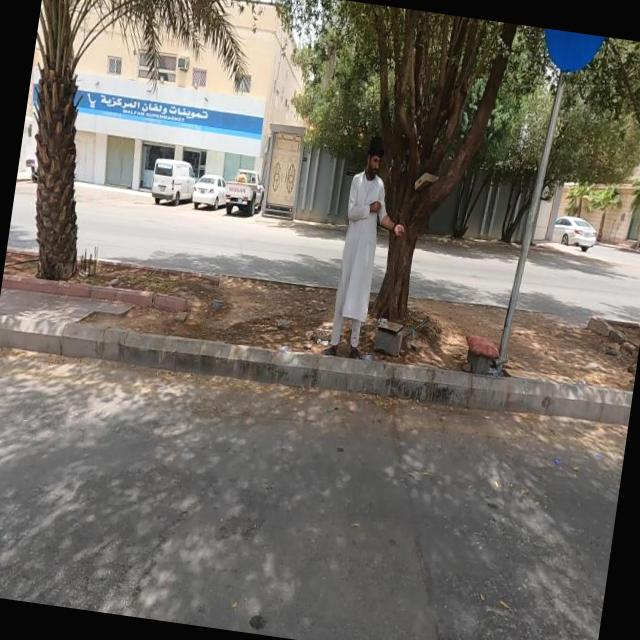debris: (530, 426, 590, 496), (342, 322, 397, 390), (259, 320, 313, 376)
